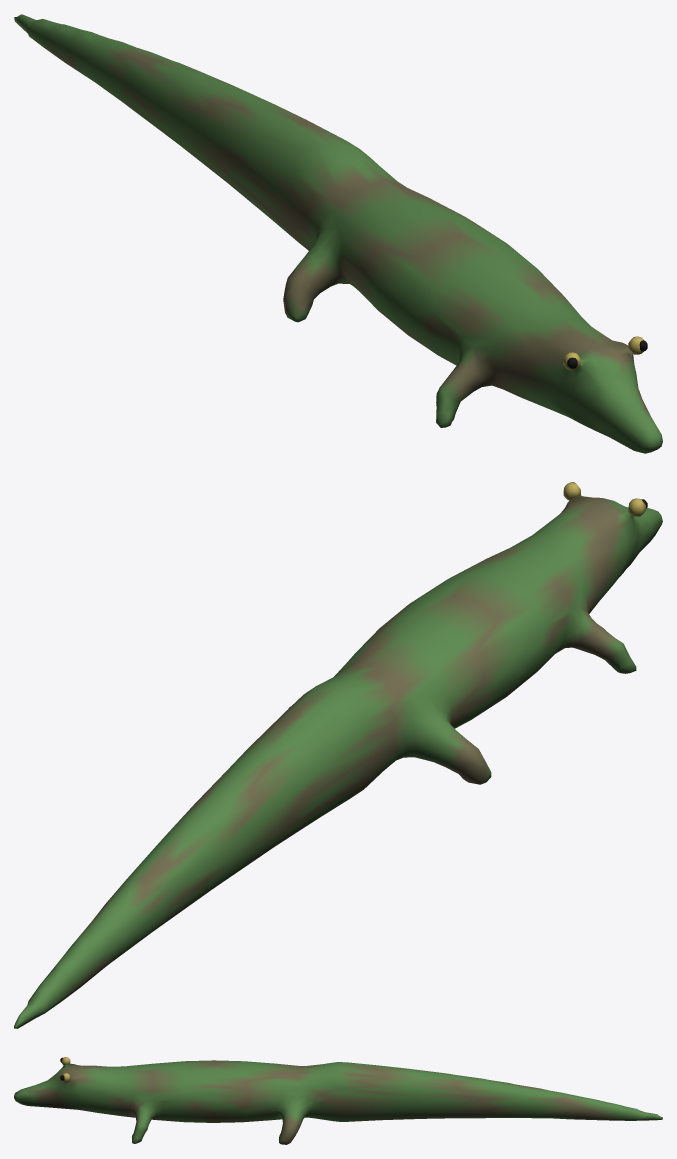
File: eidechse.glb
3 renders of one model, top to bottom at view 1: azimuth 30°, elevation 25°; view 2: azimuth 150°, elevation 25°; view 3: azimuth 270°, elevation 25°, orthographic. The views are drawn at different scales.
Visible parts, largest first — view 1: lack; view 2: lack; view 3: lack.
Boxes of the visible parts, <box> form: lack: <box>14,14,662,453</box>; lack: <box>14,482,662,1028</box>; lack: <box>14,1057,662,1144</box>.
Size of the model in its own units: 0.0395 by 0.0212 by 0.2174.
